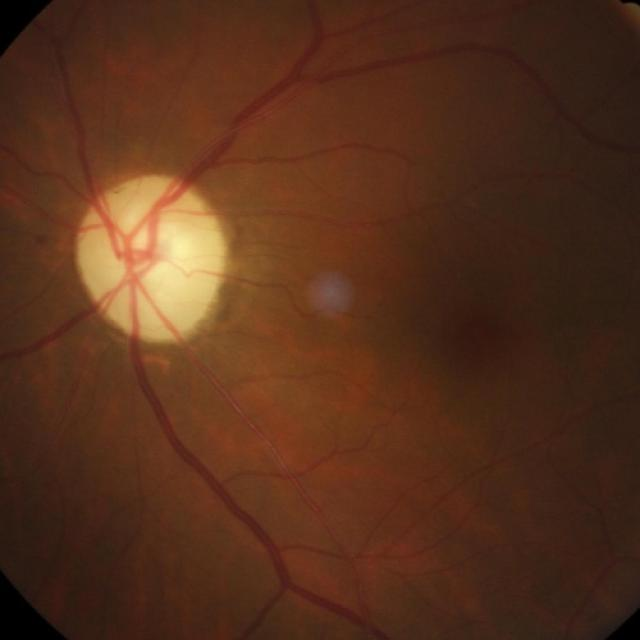OC: (126, 222, 190, 282)
OD: (75, 178, 226, 348)
